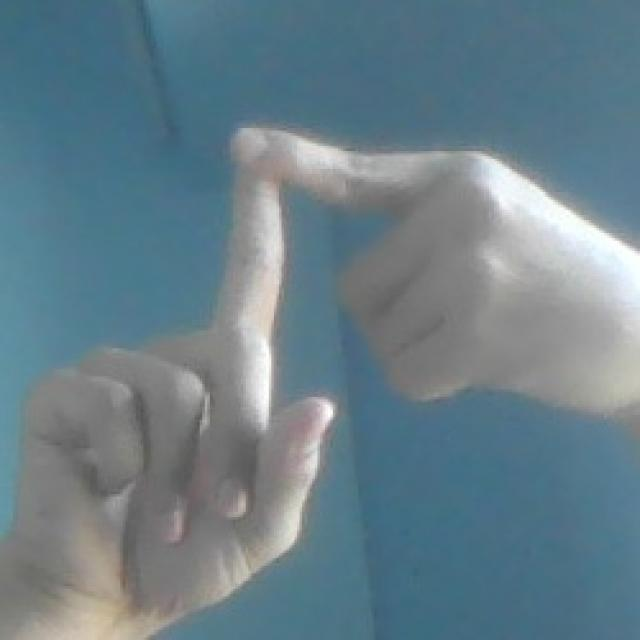Alphabet-E: (0, 128, 640, 640)
